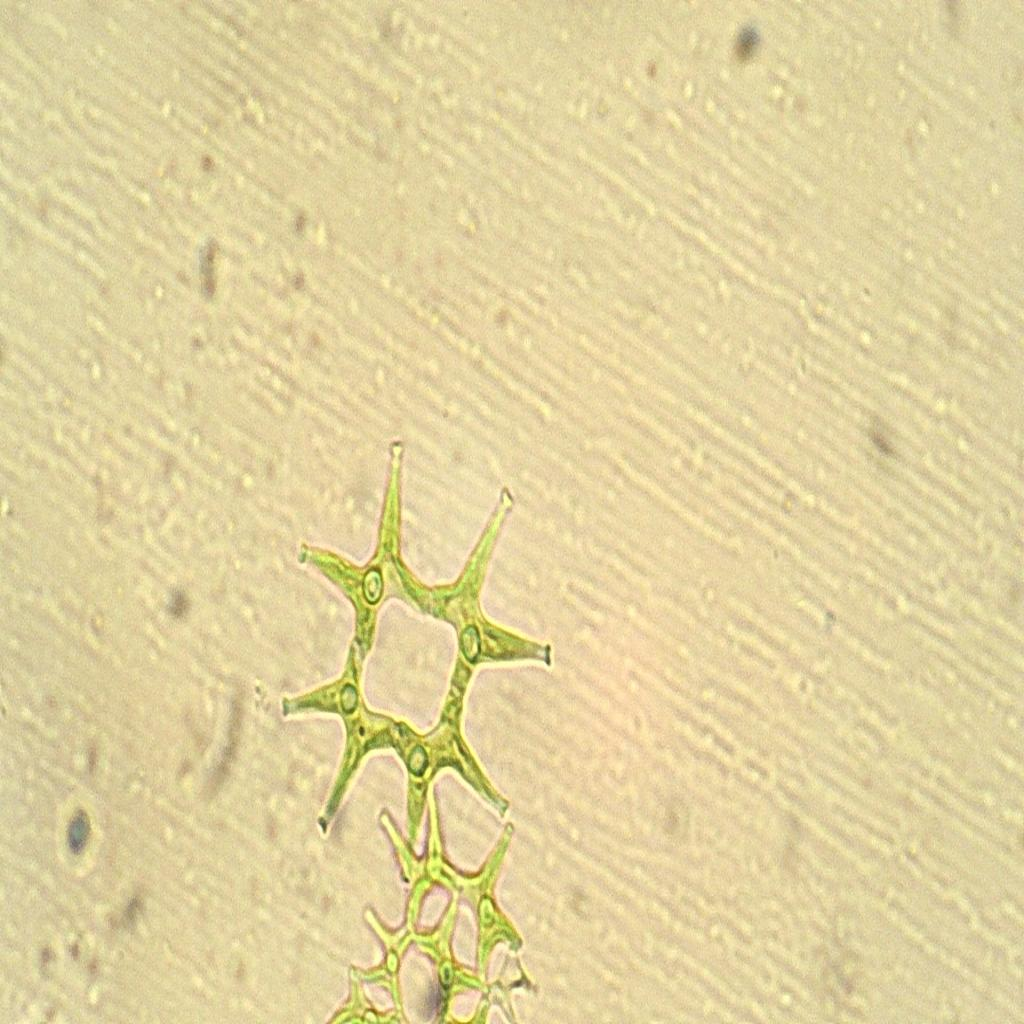Pediastrum_75O: (271, 412, 580, 891)
